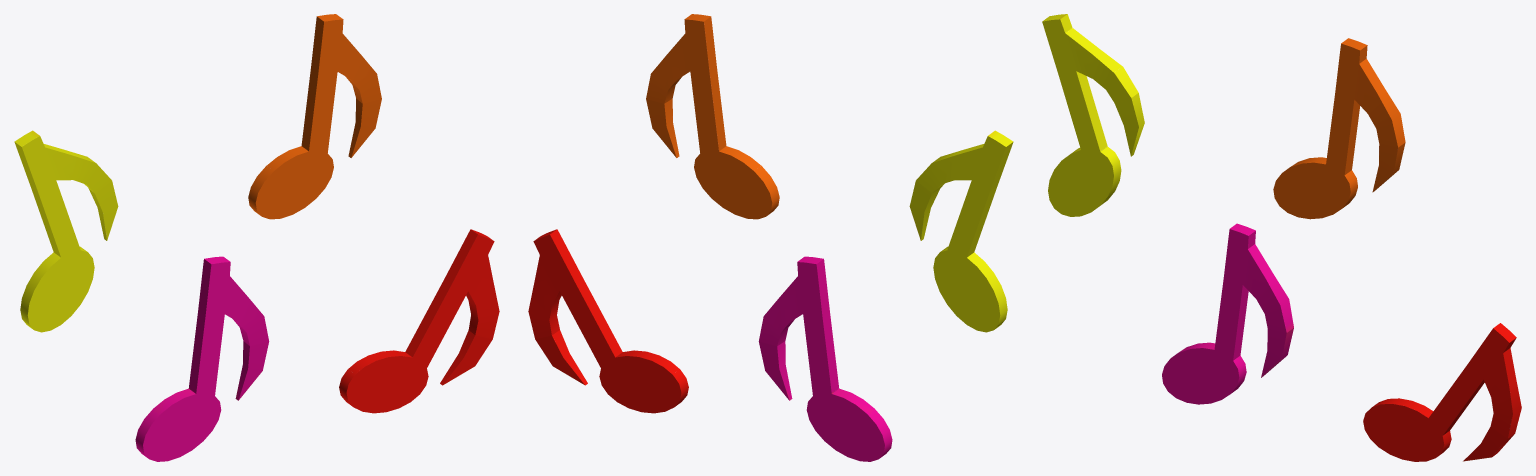
File: notes.obj
The picture shows the model from 3 angles, left to right: view 1: azimuth 30°, elevation 25°; view 2: azimuth 150°, elevation 25°; view 3: azimuth 330°, elevation 25°; orthographic projection.
Parts seen in each view (by area): view 1: pCylinder5_initialShadingGroup; view 2: pCylinder5_initialShadingGroup; view 3: pCylinder5_initialShadingGroup.
Part boxes in pixels (<box>): pCylinder5_initialShadingGroup: <box>14,14,499,461</box>; pCylinder5_initialShadingGroup: <box>528,14,1013,461</box>; pCylinder5_initialShadingGroup: <box>1042,14,1521,461</box>.
Size of the model in its own units: 18.25 by 14.83 by 0.5899.
1 material, 1 textured.
